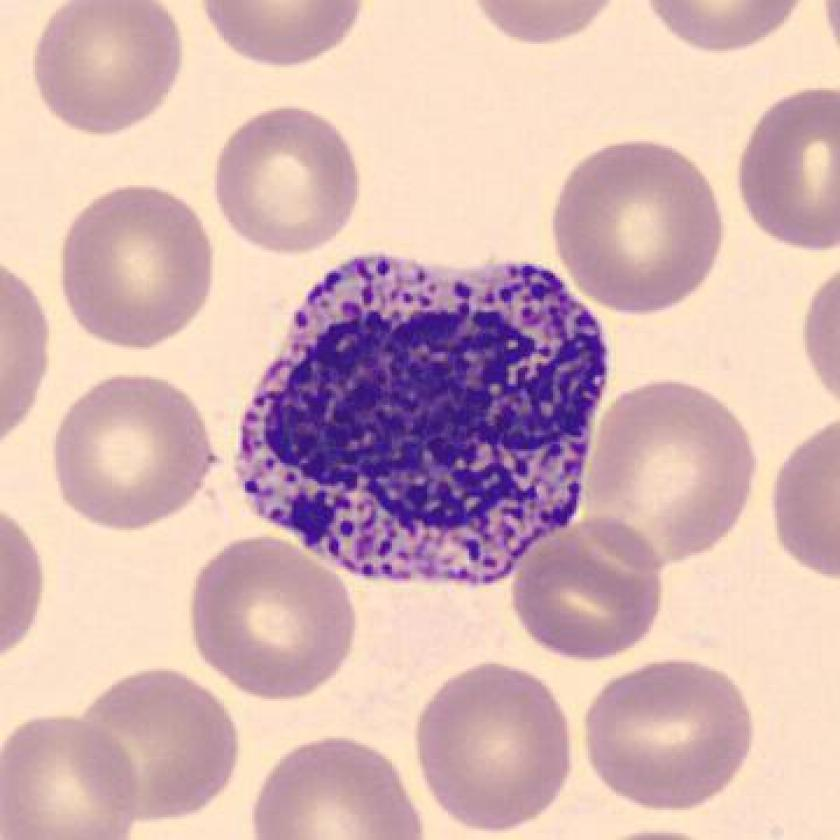basophil: (225, 244, 601, 589)
